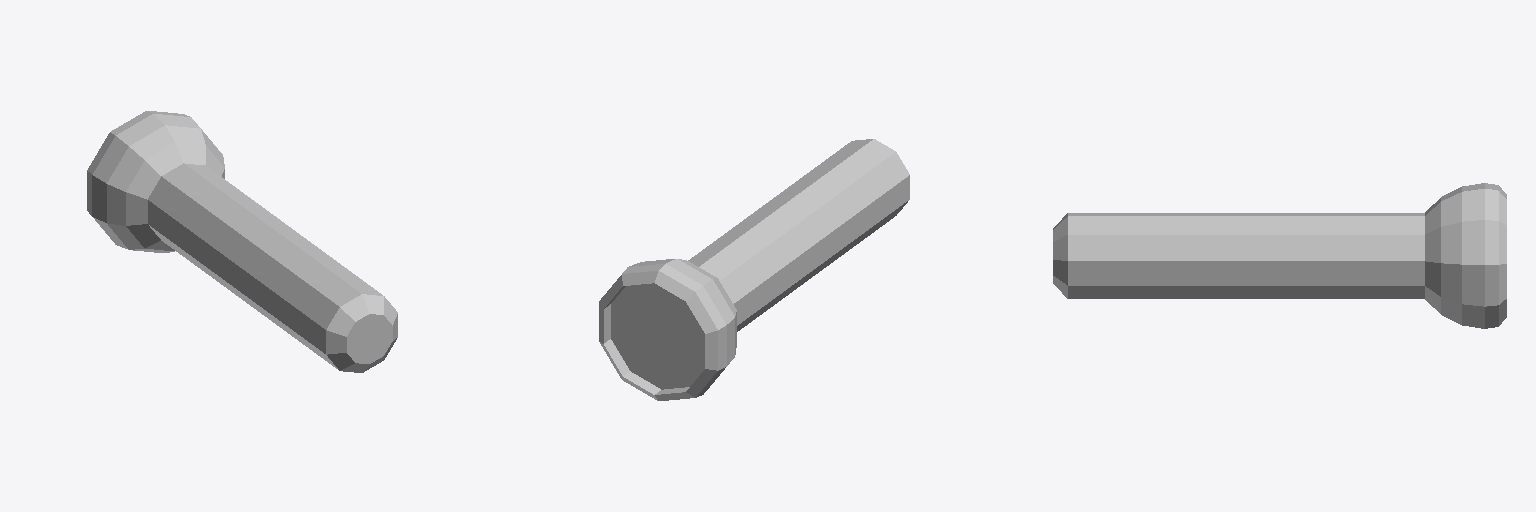
File: flashlight.obj
3 views of the same model, side by side, from view 1: azimuth 30°, elevation 25°; view 2: azimuth 150°, elevation 25°; view 3: azimuth 270°, elevation 25° (orthographic).
Visible parts, largest first — view 1: Sphere; view 2: Sphere; view 3: Sphere.
Part boxes in pixels (bbox=[...]): Sphere: bbox=[87, 111, 397, 372]; Sphere: bbox=[599, 139, 909, 400]; Sphere: bbox=[1053, 183, 1506, 328].
Size of the model in its own units: 0.0951 by 0.1 by 0.3055.